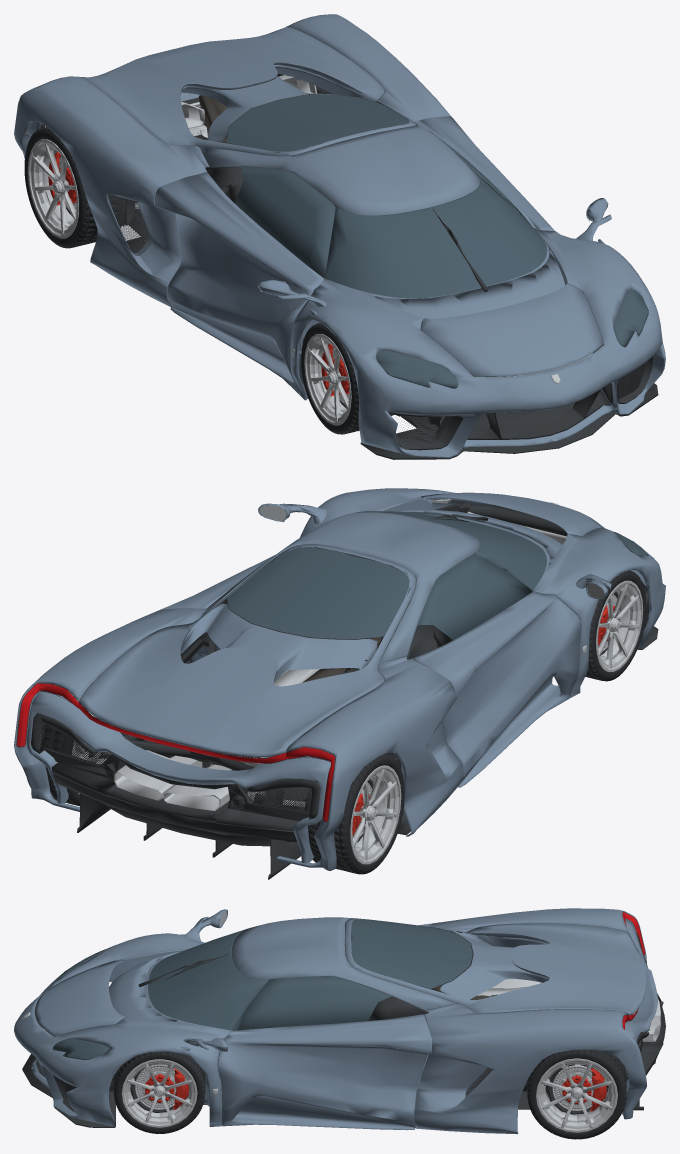
Rendered from traffic_gt_detailed.fbx.
The picture shows the model from 3 angles, top to bottom: view 1: azimuth 30°, elevation 25°; view 2: azimuth 150°, elevation 25°; view 3: azimuth 270°, elevation 25°; orthographic projection. The views are drawn at different scales.
Visible parts, largest first — view 1: FleetBody, Wheel_RL, Wheel_FL; view 2: FleetBody, Wheel_RL, Wheel_FL, Wheel_RR; view 3: FleetBody, Wheel_RR, Wheel_FR.
Boxes of the visible parts, box(x1,y1,x2,y2) form: FleetBody: box(14, 14, 665, 459); Wheel_RL: box(24, 127, 125, 248); Wheel_FL: box(301, 323, 359, 434); FleetBody: box(14, 488, 665, 879); Wheel_RL: box(304, 754, 404, 874); Wheel_FL: box(564, 570, 646, 681); Wheel_RR: box(27, 683, 102, 806); FleetBody: box(14, 908, 665, 1134); Wheel_RR: box(527, 1049, 626, 1139); Wheel_FR: box(113, 1052, 205, 1133).
Bounding box in the file's own units: 2.44 × 1.18 × 4.93.
